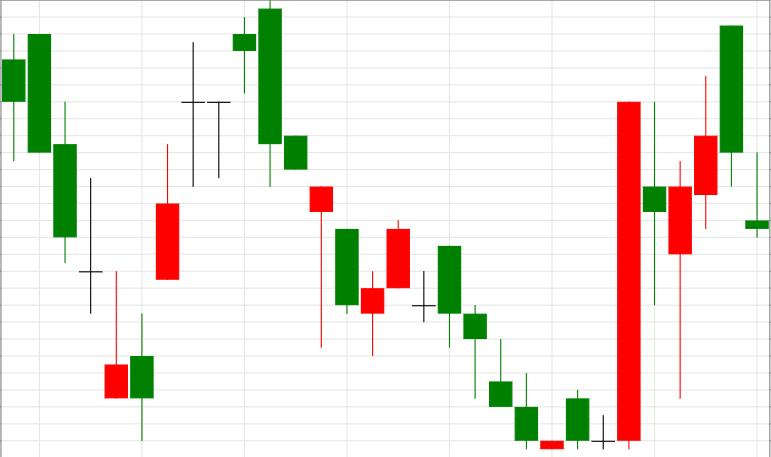inverse_hammer_rise: (1, 33, 127, 399)
morning_star_rise: (439, 101, 640, 450)
